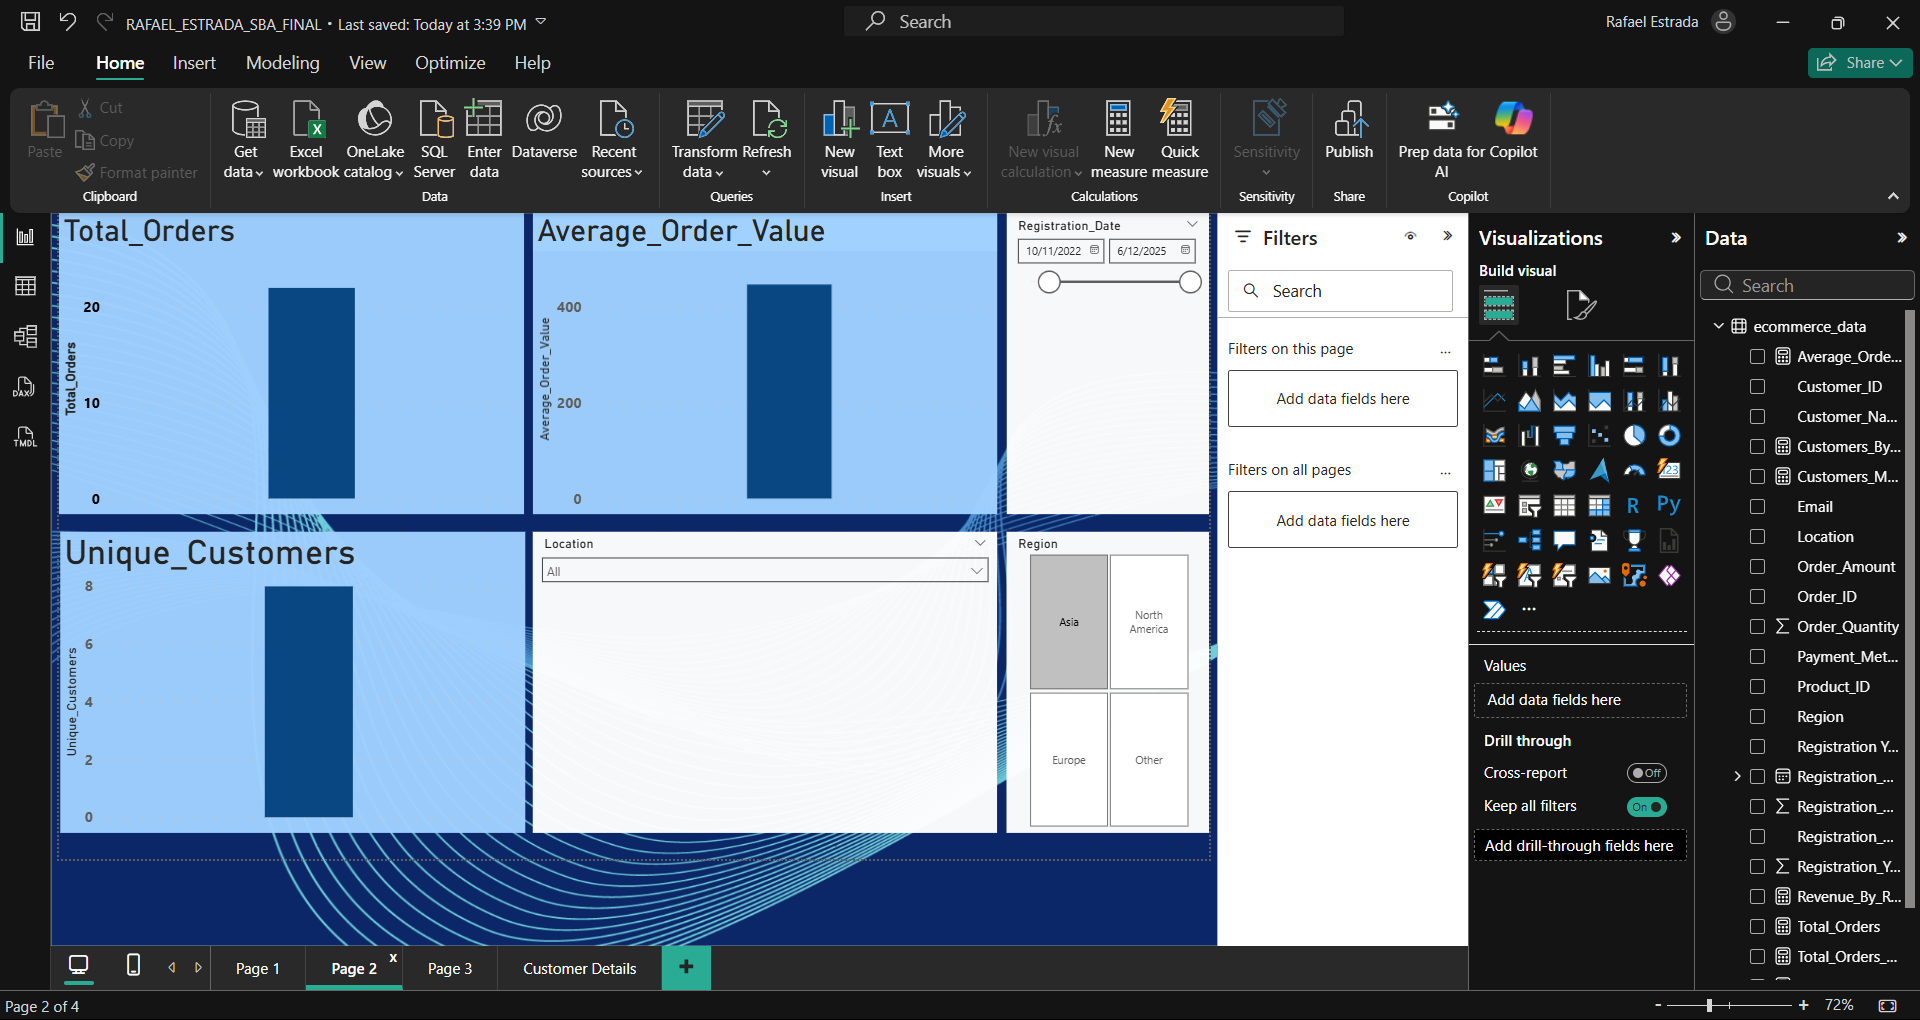

The page's visual inventory and layout, read from the dashboard file:
{"tool":"powerbi","page":{"name":"Page 2","canvas":[1280,720],"ordinal":1},"visuals":[{"type":"columnChart","fields":{"Y":["ecommerce_data.Total_Orders"]},"box":[0,0,517.4,335],"z":0},{"type":"columnChart","fields":{"Y":["ecommerce_data.Unique_Customers"]},"box":[1.4,354.9,517.4,335],"z":1000},{"type":"columnChart","fields":{"Y":["ecommerce_data.Average_Order_Value"]},"box":[527,0,517,335],"z":2000},{"type":"slicer","fields":{"Values":["ecommerce_data.Location"]},"box":[527,355,517,335],"z":3000},{"type":"slicer","fields":{"Values":["ecommerce_data.Registration_Date"]},"box":[1054,0,226,335],"z":4000},{"type":"slicer","fields":{"Values":["ecommerce_data.Region"]},"box":[1054,355,226,335],"z":5000}]}

Visuals, with their boxes on the page's 1280x720 design canvas (x1, y1, x2, y2). These are canvas units, not pixel positions in the 1920x1020 screenshot, which may show the page scaled, cropped or inside an application window:
columnChart - ecommerce_data.Total_Orders: region(0, 0, 517, 335)
columnChart - ecommerce_data.Unique_Customers: region(1, 355, 519, 690)
columnChart - ecommerce_data.Average_Order_Value: region(527, 0, 1044, 335)
slicer - ecommerce_data.Location: region(527, 355, 1044, 690)
slicer - ecommerce_data.Registration_Date: region(1054, 0, 1280, 335)
slicer - ecommerce_data.Region: region(1054, 355, 1280, 690)
